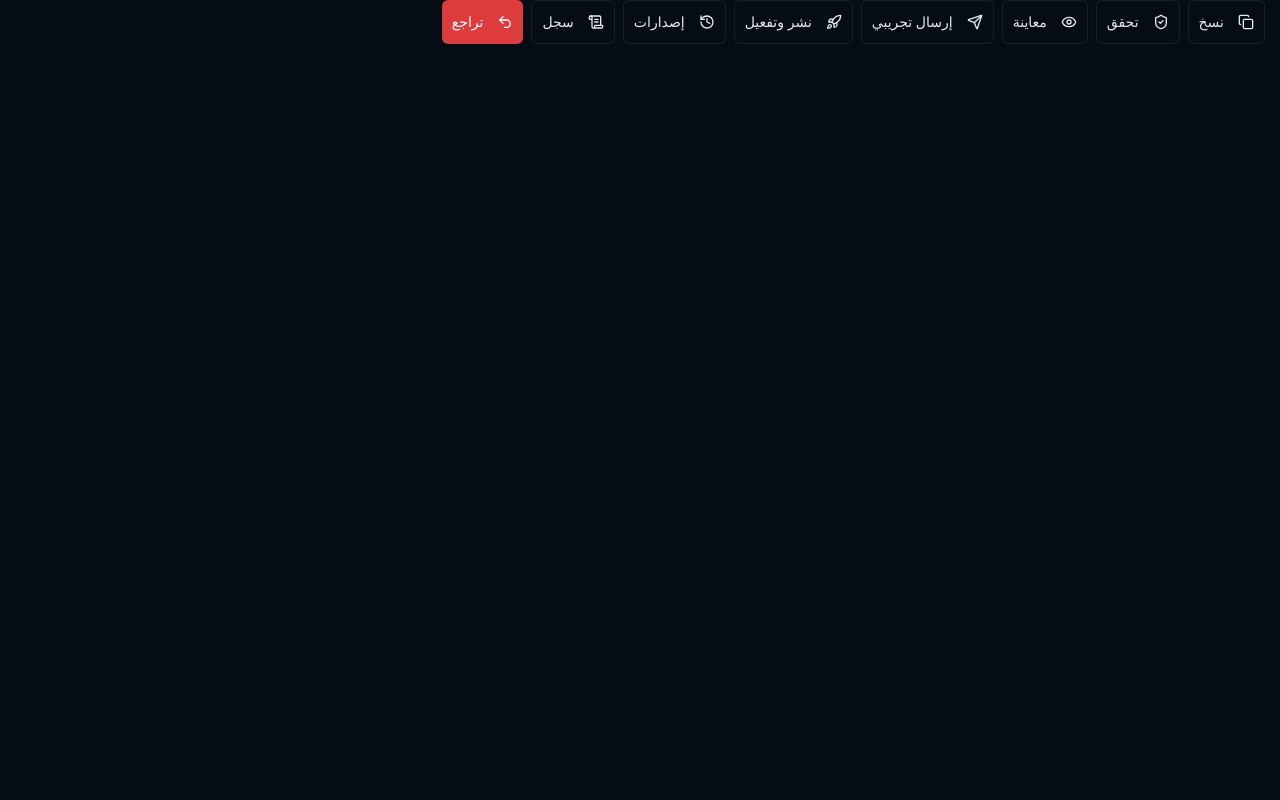
Test: NotificationTemplateActions › زر «تحقق» يستدعي POST /validate ويعرض المشاكل العربية
The image size is (1280, 800).
Click the button "تحقق": coordinates (1138, 22) [1096,0,1180,44]
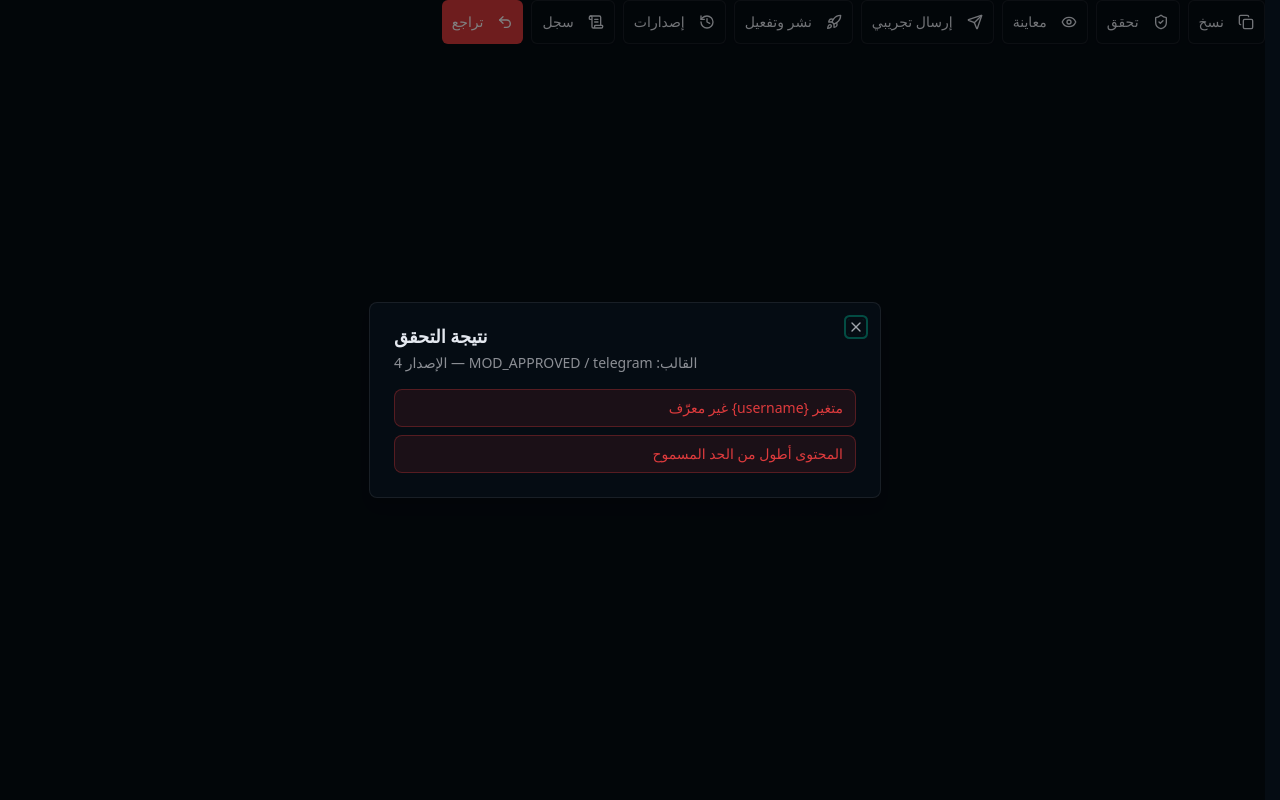
Expected: the heading "نتيجة التحقق" is shown, [394,324,488,348]
Expected: the list item "متغير {username} غير معرّف" is shown, [394,389,856,427]
Expected: the list item "المحتوى أطول من الحد المسموح" is shown, [394,435,856,473]
